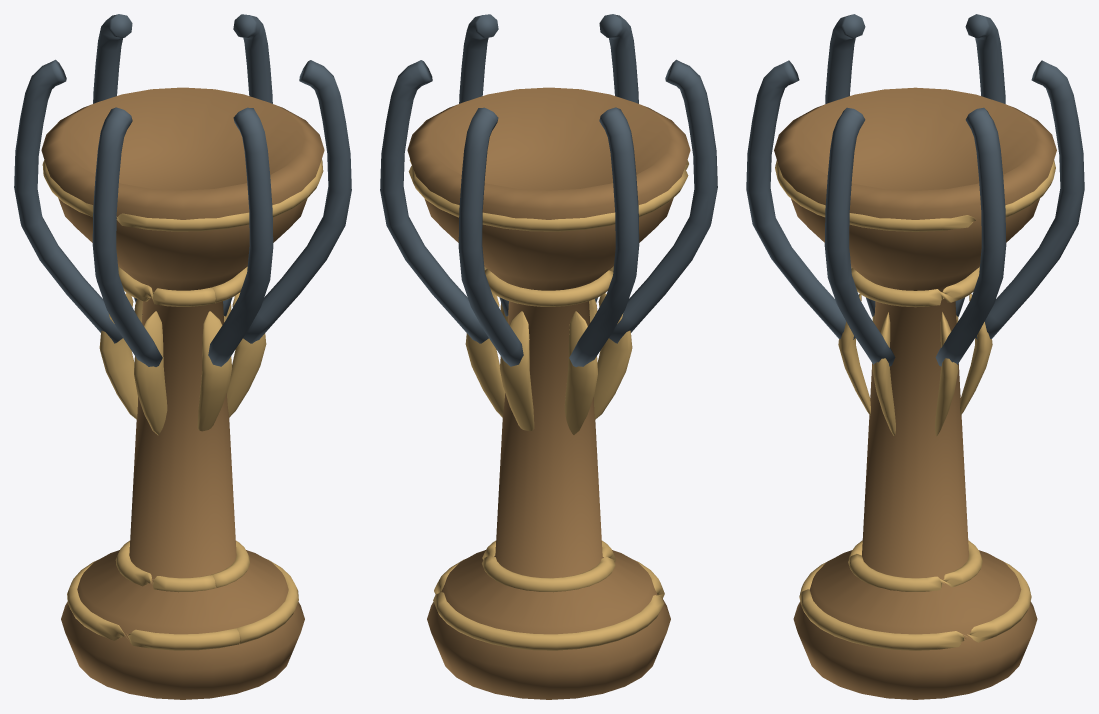
Rendered from ceremonial_brazier.glb.
The picture shows the model from 3 angles, left to right: view 1: azimuth 30°, elevation 25°; view 2: azimuth 150°, elevation 25°; view 3: azimuth 270°, elevation 25°; orthographic projection.
Visible parts, largest first — view 1: Body__bronze, Body__iron, Body__gold; view 2: Body__bronze, Body__iron, Body__gold; view 3: Body__bronze, Body__iron, Body__gold.
Boxes of the visible parts, left/top/right/bottom form: Body__bronze: left=41, top=87, right=324, bottom=699; Body__iron: left=14, top=14, right=351, bottom=366; Body__gold: left=42, top=159, right=323, bottom=650; Body__bronze: left=407, top=87, right=690, bottom=699; Body__iron: left=380, top=14, right=717, bottom=366; Body__gold: left=408, top=159, right=688, bottom=650; Body__bronze: left=774, top=87, right=1056, bottom=699; Body__iron: left=746, top=14, right=1084, bottom=366; Body__gold: left=775, top=160, right=1055, bottom=650.
Bounding box in the file's own units: 0.6073 × 1.34 × 0.6935.
